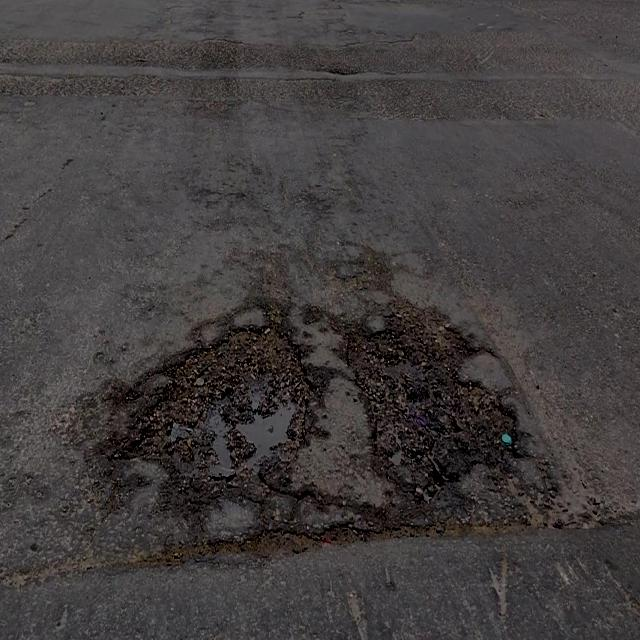Potholes: (107, 316, 316, 499), (344, 298, 518, 501)
